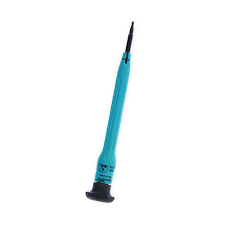Screwdriver: (79, 8, 145, 205)
